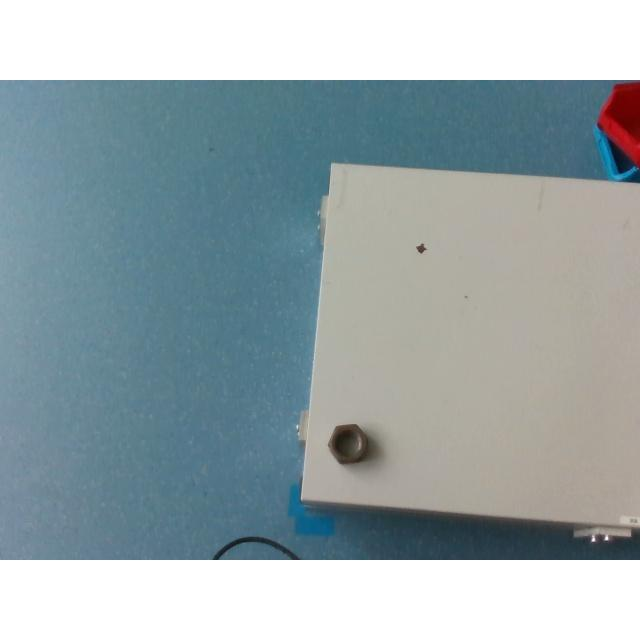M30: (327, 422, 369, 466)
